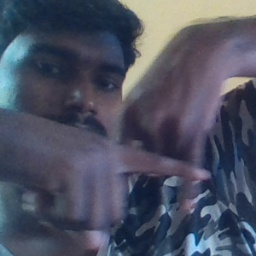H: (101, 84, 215, 236)
